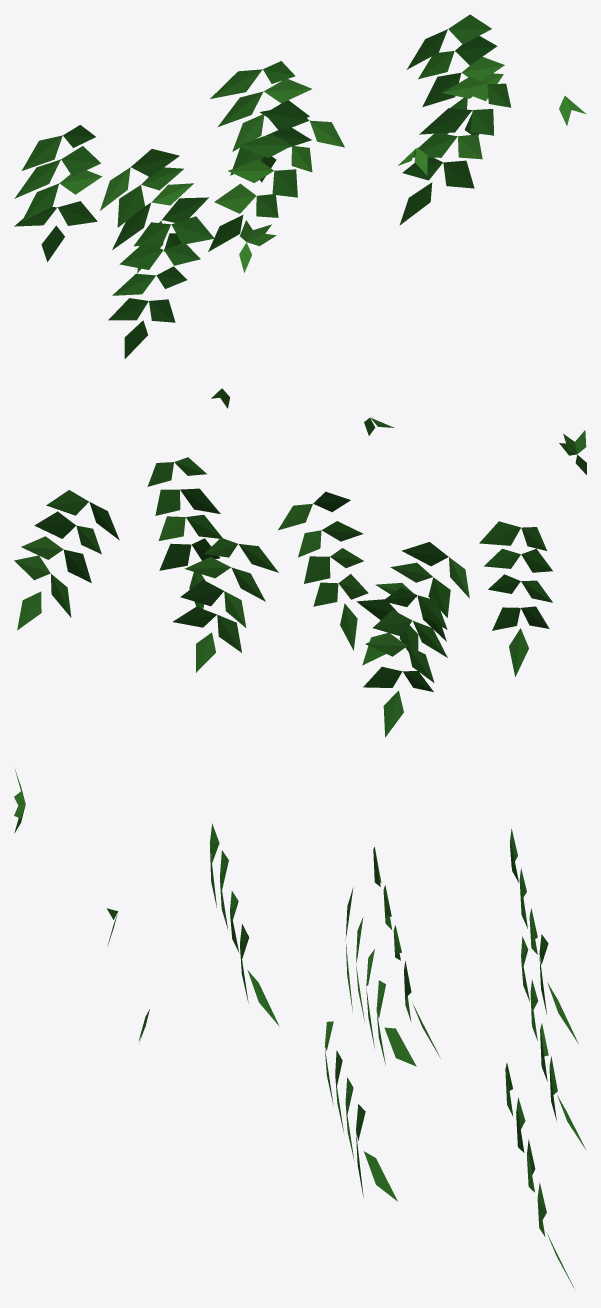
The picture shows the model from 3 angles, top to bottom: view 1: azimuth 30°, elevation 25°; view 2: azimuth 150°, elevation 25°; view 3: azimuth 270°, elevation 25°; orthographic projection. The views are drawn at different scales.
Visible parts, largest first — view 1: r15c1_l11; view 2: r15c1_l11; view 3: r15c1_l11.
Boxes of the visible parts, left/top/right/bottom form: r15c1_l11: left=14, top=14, right=586, bottom=358; r15c1_l11: left=14, top=388, right=586, bottom=737; r15c1_l11: left=14, top=769, right=586, bottom=1289.
Bounding box in the file's own units: 1.5 × 0.5881 × 1.11.
